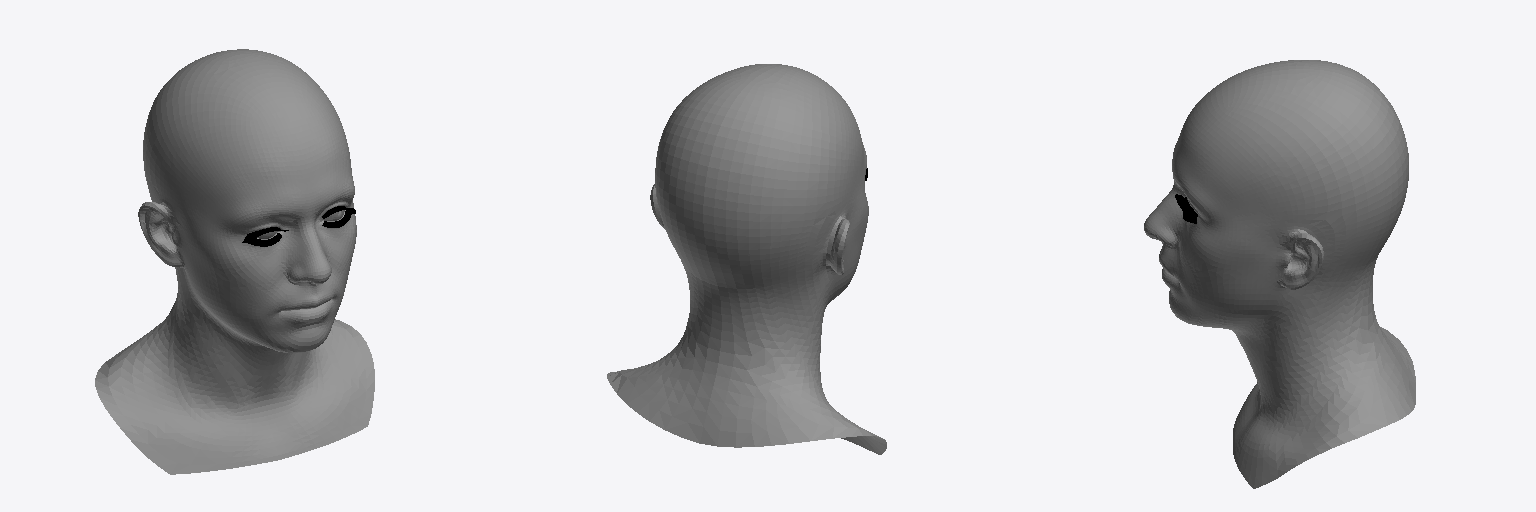
File: eyeLookUp_L.obj
3 views of the same model, side by side, from view 1: azimuth 30°, elevation 25°; view 2: azimuth 150°, elevation 25°; view 3: azimuth 270°, elevation 25° (orthographic).
Bounding box in the file's own units: 24.83 × 33.81 × 22.32.